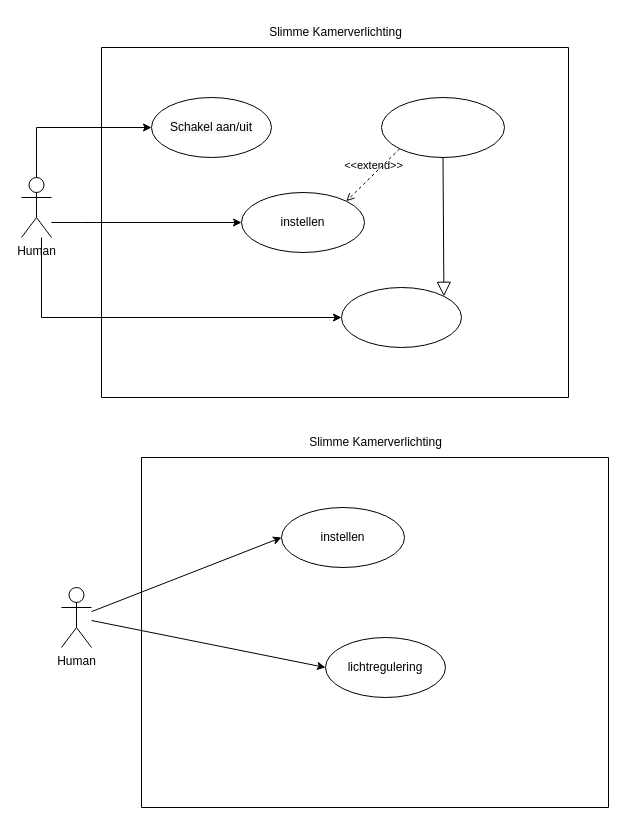
Image size: 626x825. Some labels were removed from this diagram. Here are the shapes that lost their labels. From the top down, the centre of each, then its label:
At point (442, 127): "automatische lichtregulering".
At point (401, 317): "reguleer licht (handmatig)".
